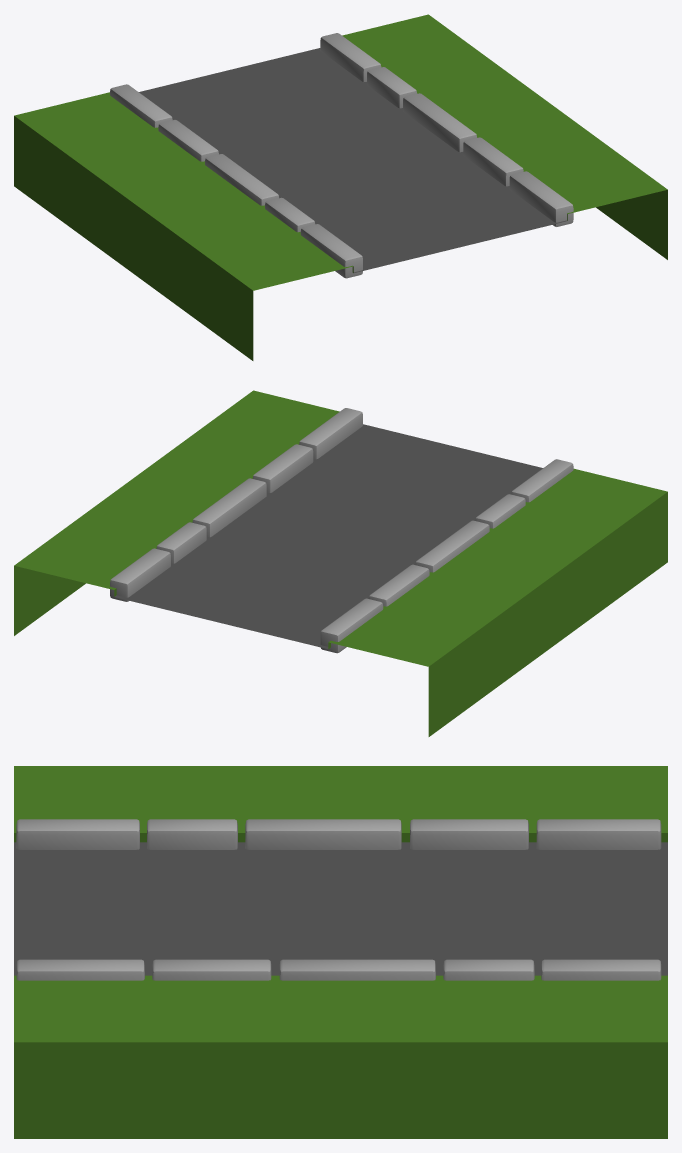
Rendered from SM_tile_road_02.fbx.
3 views of the same model, one above another, from view 1: azimuth 30°, elevation 25°; view 2: azimuth 150°, elevation 25°; view 3: azimuth 270°, elevation 25° (orthographic). The views are drawn at different scales.
Parts seen in each view (by area): view 1: Box171; view 2: Box171; view 3: Box171.
Boxes of the visible parts, left/top/right/bottom form: Box171: left=14, top=14, right=667, bottom=360; Box171: left=14, top=390, right=667, bottom=736; Box171: left=14, top=766, right=667, bottom=1138.
Bounding box in the file's own units: 394 × 70.91 × 394.
